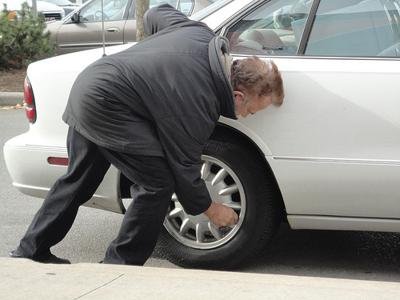person: (10, 3, 284, 266)
